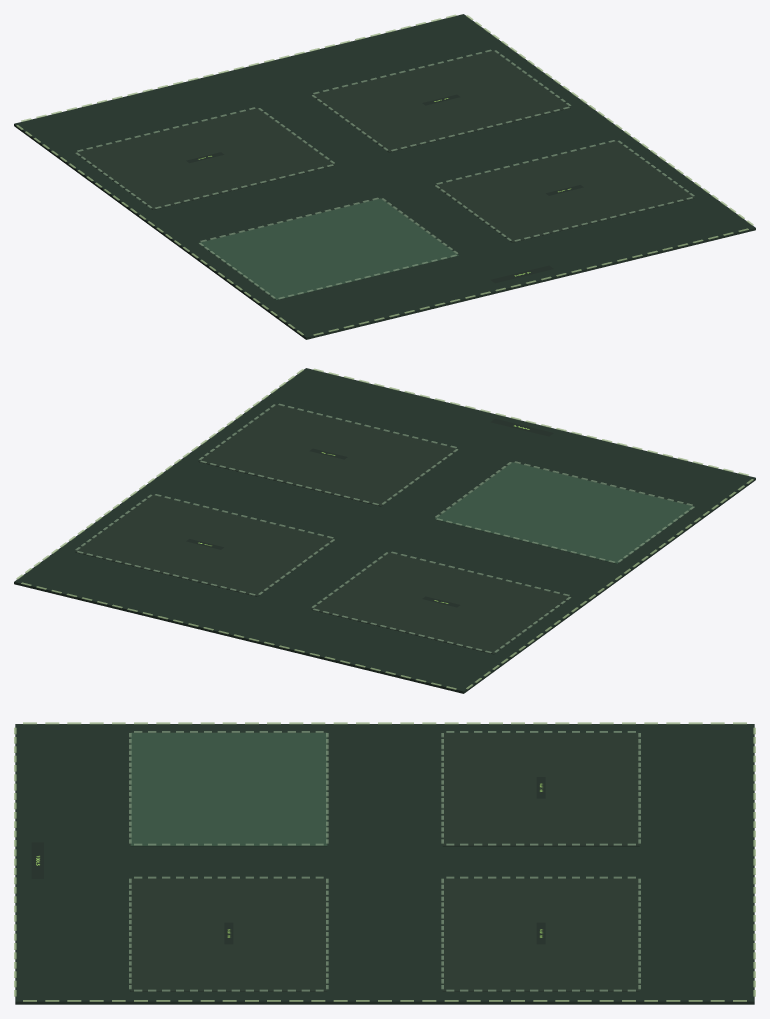
The model's file is tool-area.glb.
3 renders of one model, top to bottom at view 1: azimuth 30°, elevation 25°; view 2: azimuth 150°, elevation 25°; view 3: azimuth 270°, elevation 25°, orthographic. The views are drawn at different scales.
Parts seen in each view (by area): view 1: tool-area, dashed-outline (×5); view 2: tool-area, dashed-outline (×5); view 3: tool-area, dashed-outline (×5).
Part boxes in pixels (x1=…): tool-area: x1=14, y1=14, x2=755, y2=339; dashed-outline (×5): x1=16, y1=14, x2=753, y2=335; tool-area: x1=14, y1=368, x2=755, y2=693; dashed-outline (×5): x1=16, y1=368, x2=753, y2=689; tool-area: x1=15, y1=724, x2=754, y2=1004; dashed-outline (×5): x1=14, y1=722, x2=755, y2=1001.
Bounding box in the file's own units: 16.07 × 0.14 × 18.07.
Materials: 14 (4 with a texture image).
